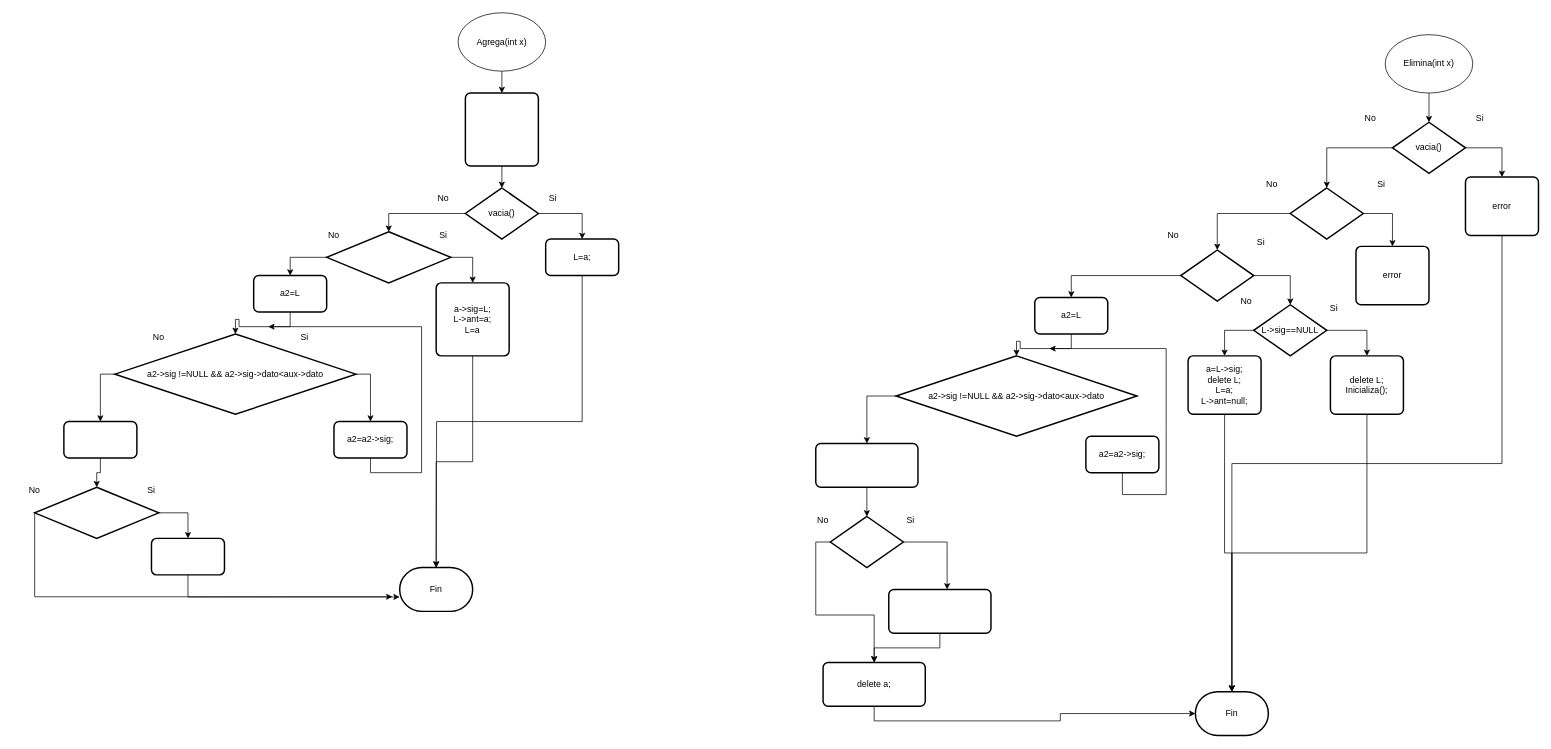
This 1551x749 diagram has some shape labels left out. Here are the shapes that lost their labels. From the top down, the box of each, then its label:
(464, 92, 539, 166): a=new Nodo; a->dato=x; a->sig=null; a->ant=null;
(1289, 187, 1364, 239): !Buscar(int x)
(326, 231, 451, 283): a->dato<L->dato
(1180, 249, 1254, 301): L->dato==x
(63, 420, 137, 458): a->sig=a2->sig; a->ant=a2; a2->sig=a;
(815, 442, 918, 488): a=a2->sig; a2->sig=a2->sig->sig;
(34, 486, 159, 539): a2->sig!=null
(150, 537, 225, 575): a2->sig->ant=a;
(829, 515, 904, 568): a->sig!=NULL
(888, 588, 991, 634): a->sig->ant=a2;
